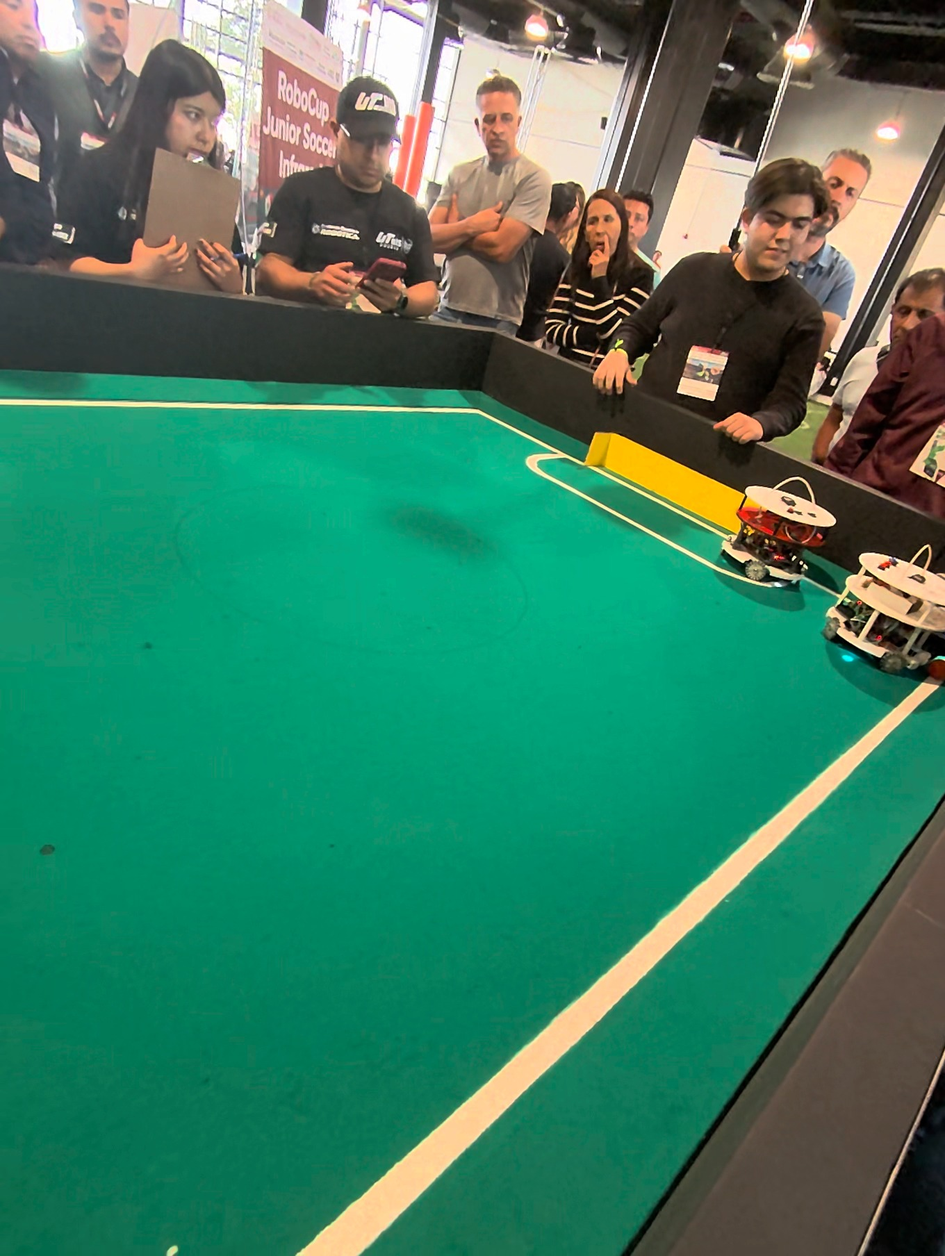Robot: (826, 536, 945, 685), (719, 478, 812, 604)
